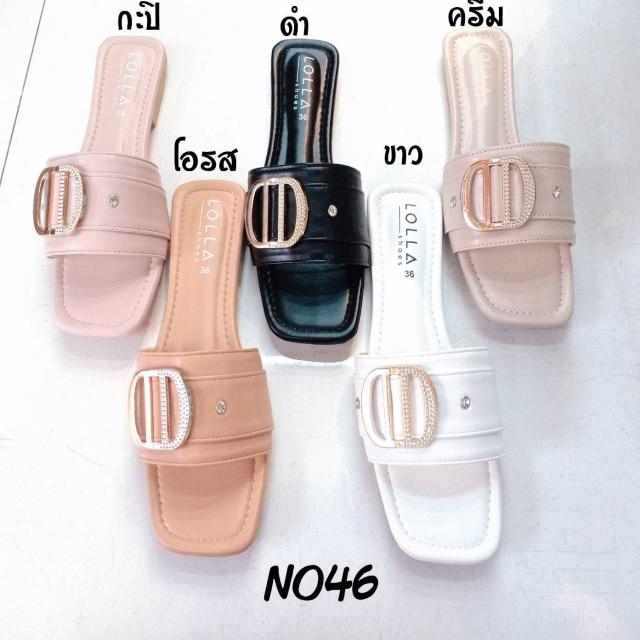black: (255, 36, 367, 350)
cream: (444, 38, 567, 326)
kapi: (45, 40, 172, 339)
orot: (144, 175, 267, 551)
white: (359, 185, 501, 566)
